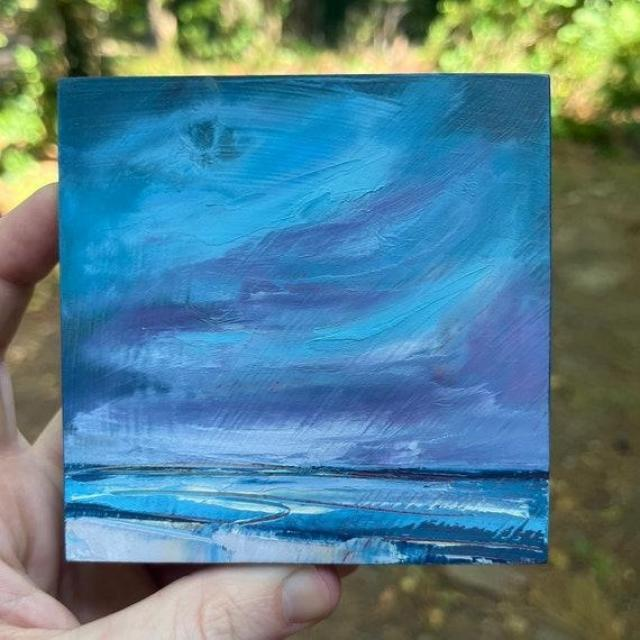painting: (58, 74, 548, 561)
